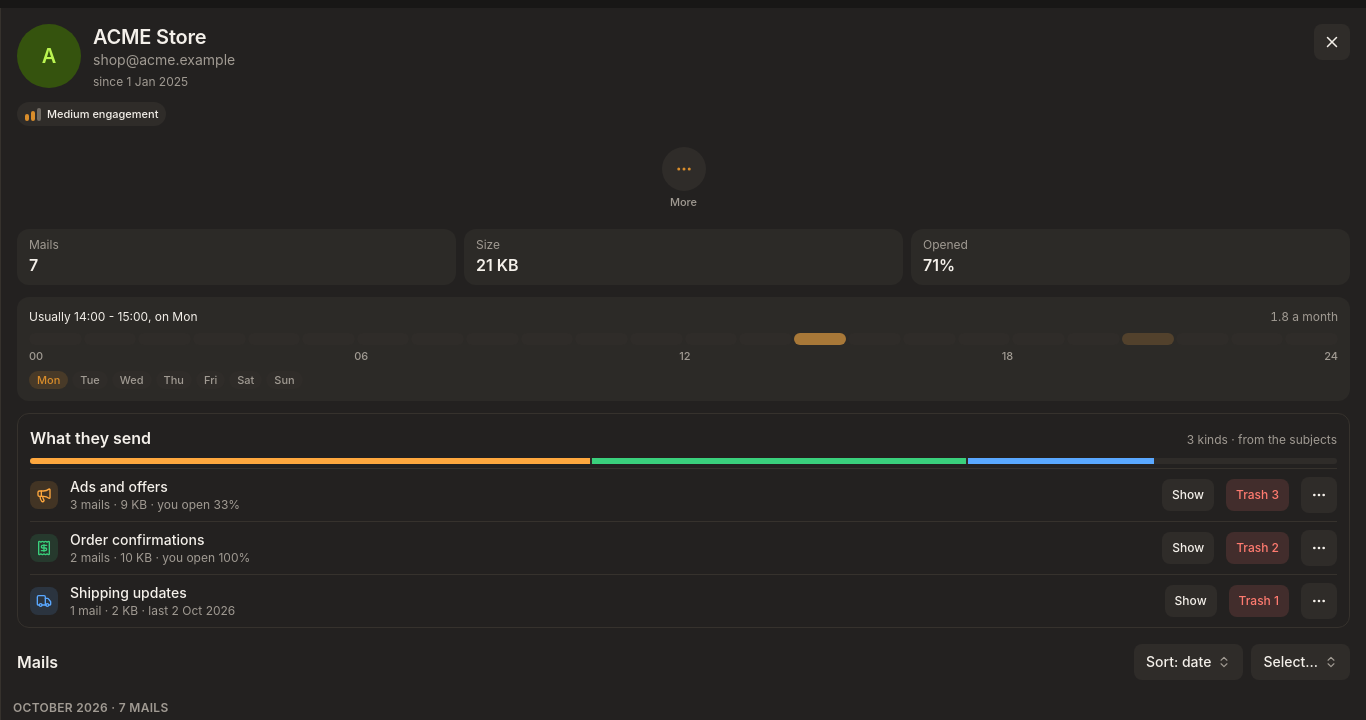
Test case: the menu on a row › has the board's entries in the board's order
What coordinates should you click on to do the following:
click the button named "More for Ads and offers"
I would click on:
 (1319, 494)
Its box is [1301,476,1337,512].
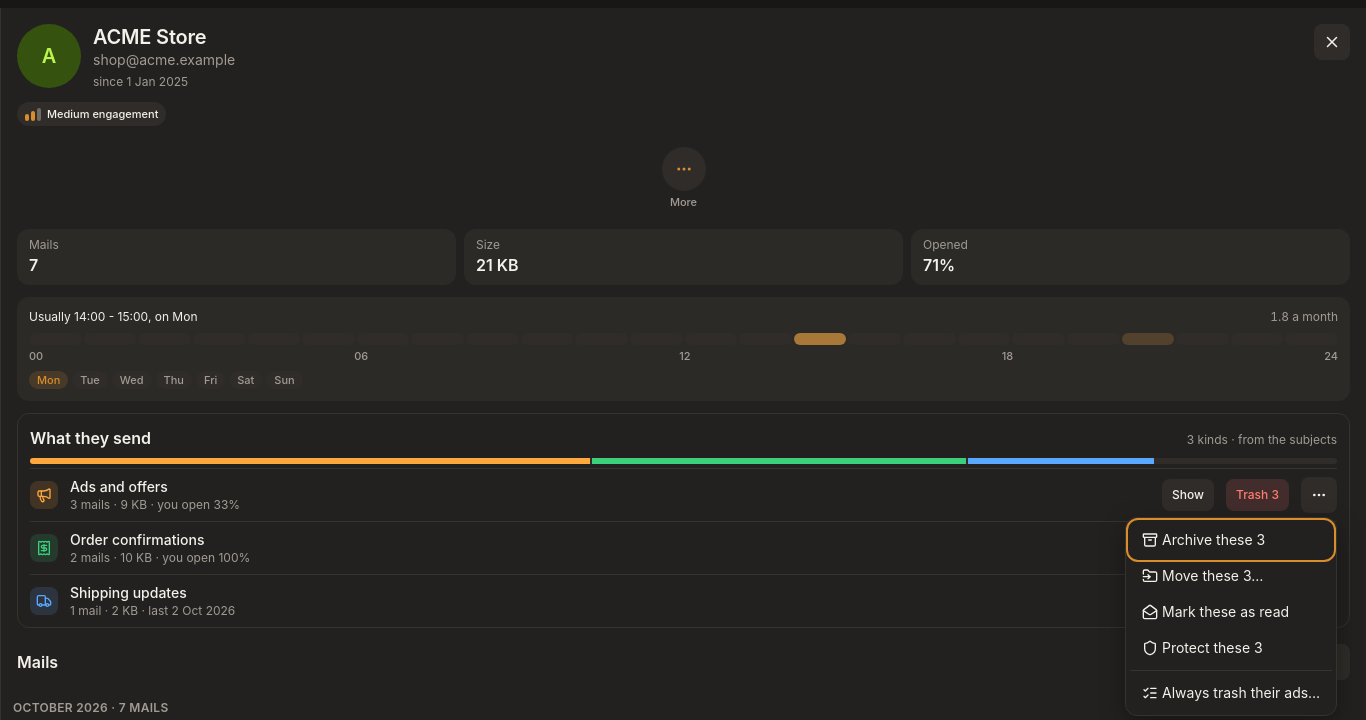
Result: the menu items read "Archive these 3", "Move these 3…", "Mark these as read", "Protect these 3", "Always trash their ads…", in this order at [1130,522,1332,558]; [1130,558,1332,594]; [1130,594,1332,630]; [1130,630,1332,666]; [1130,674,1332,710]
